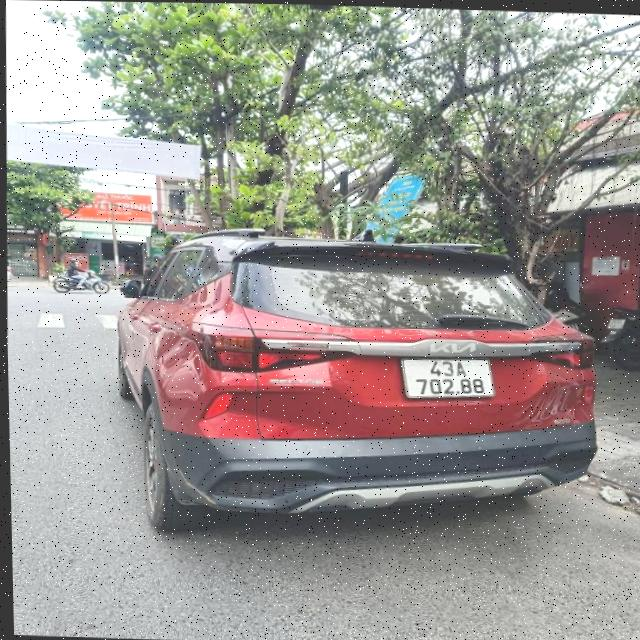car: (115, 227, 603, 545)
plate: (395, 348, 498, 405)
